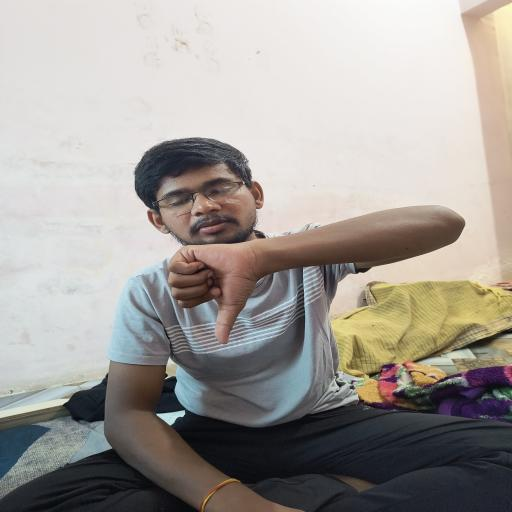Continue: (142, 233, 281, 352)
